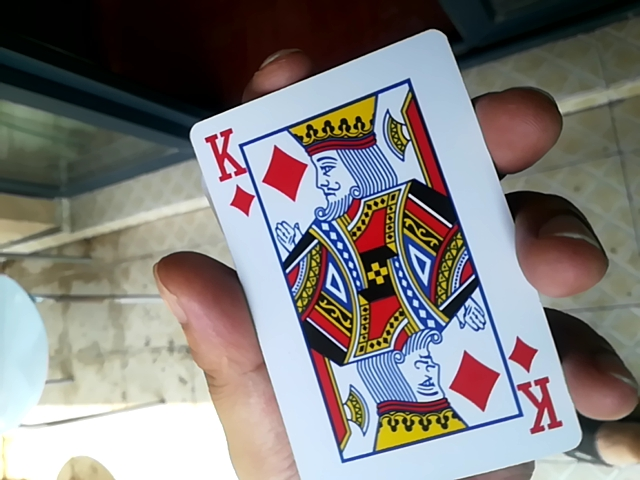fk k: (191, 34, 576, 479)
